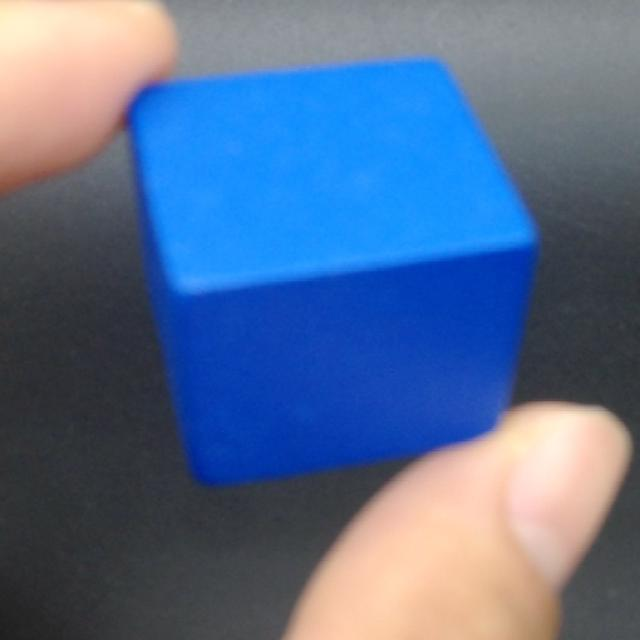bluecube: (124, 57, 540, 490)
